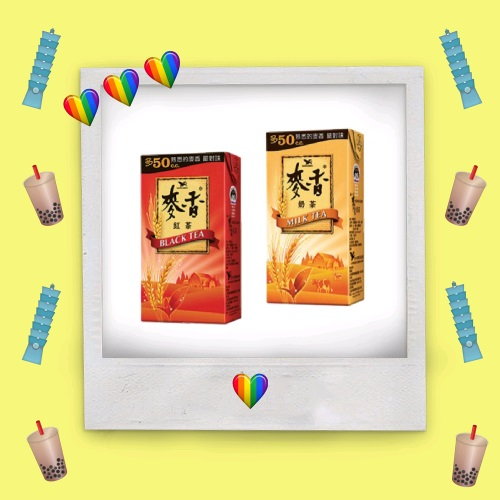milk tea: (265, 131, 366, 304)
